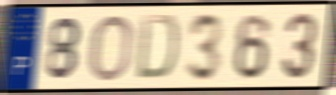3: (278, 10, 318, 82), (187, 10, 226, 83)
6: (233, 12, 273, 81)
8: (45, 15, 81, 82)
D: (134, 13, 181, 83)
O: (87, 12, 135, 84)
